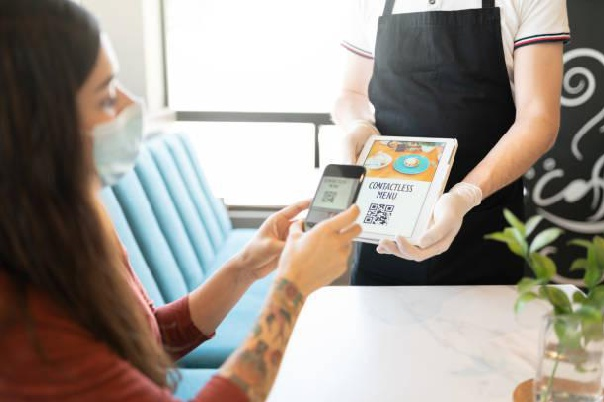code: (363, 203, 394, 226)
